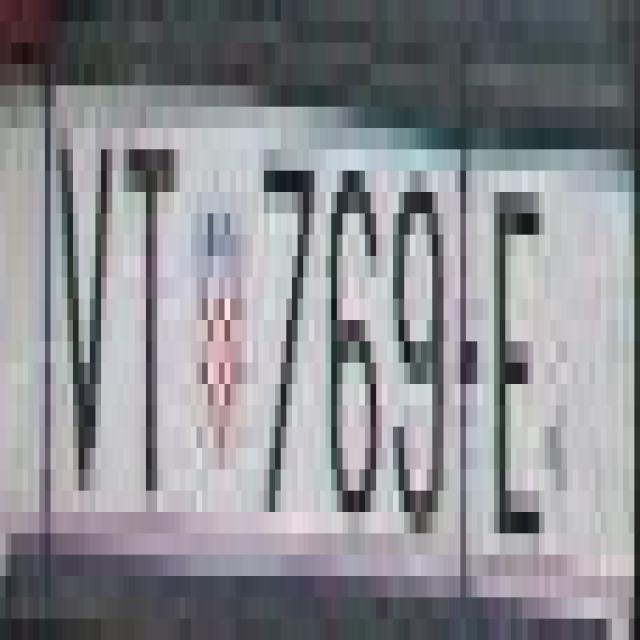6: (320, 128, 387, 533)
7: (247, 128, 314, 512)
9: (387, 149, 449, 576)
E: (488, 149, 550, 576)
T: (124, 128, 174, 533)
V: (56, 85, 112, 491)
